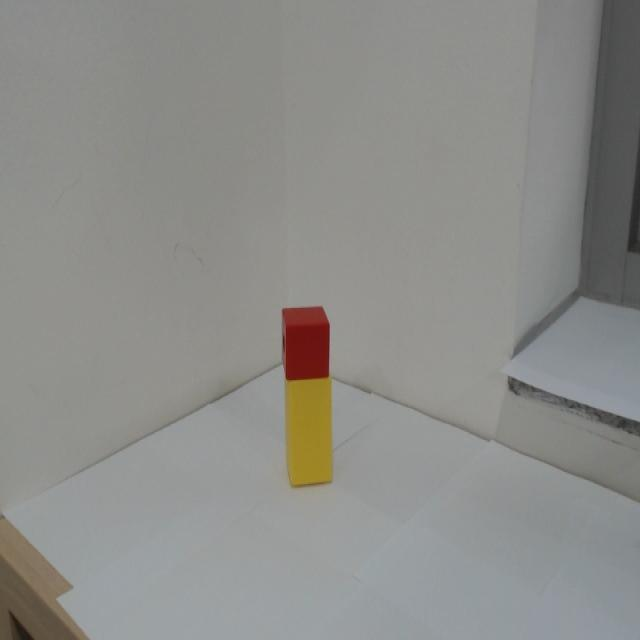cube: (275, 303, 340, 381)
